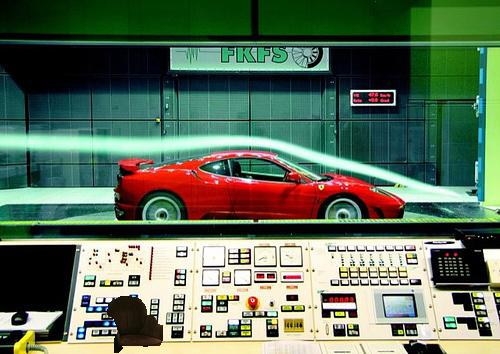tampered: (108, 297, 163, 353)
